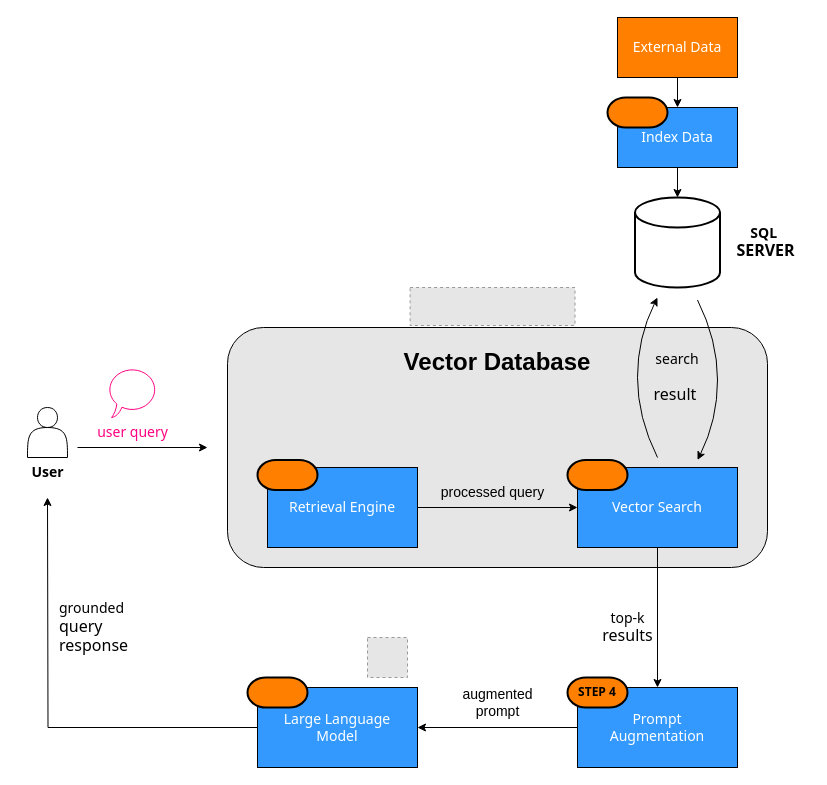
This 827x785 diagram has some shape labels left out. Grey dashed boxes stand in for pictures. Here are the shapes that lost their labels. From the top down, the centre of each, then its label:
[637,112]: STEP 1
[287,474]: STEP 2
[597,474]: STEP 3
[277,692]: STEP 5
